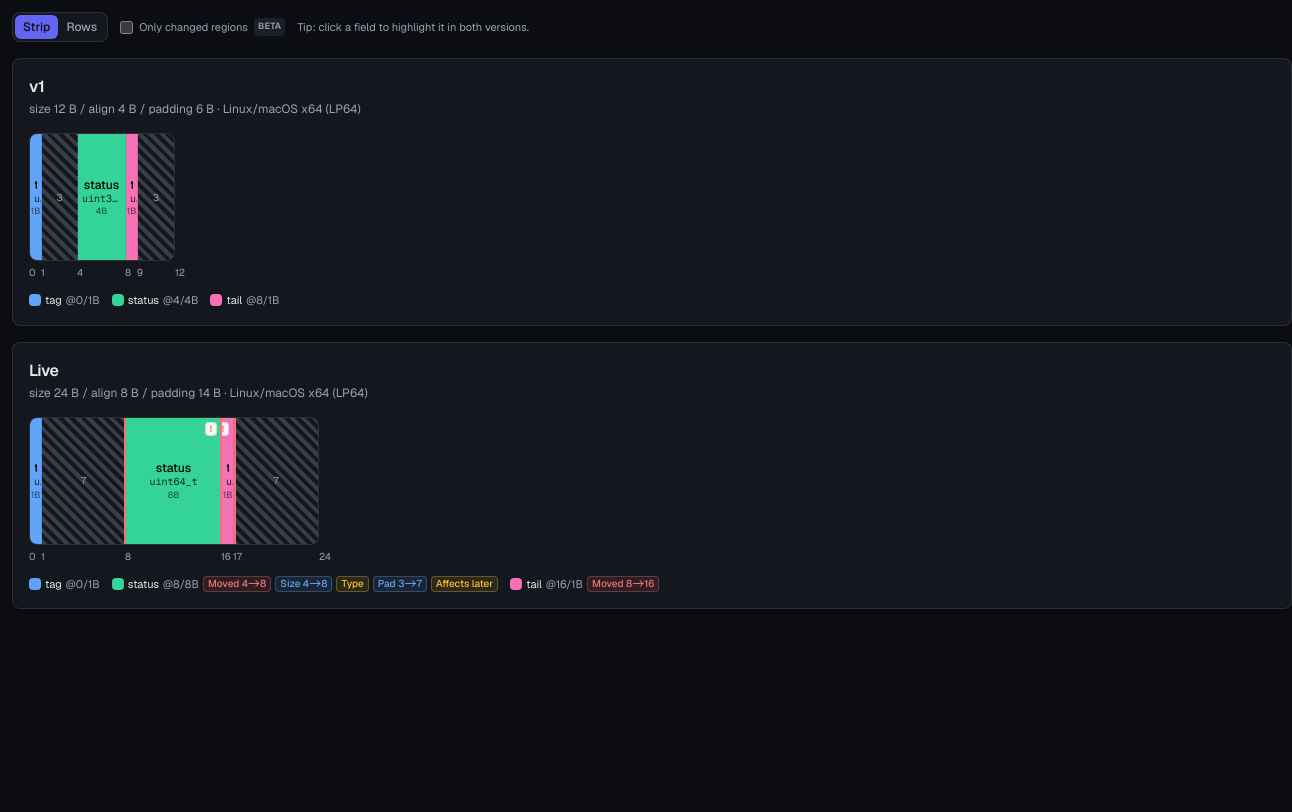
<LayoutVisualizer mode='compare' /> changed regions › shows only rows containing changes while retaining real row offsets and padding
What coordinates should you click on to do the following:
click the checkbox labelled "Only changed regions beta"
I would click on:
 (127, 27)
Its box is [120, 20, 133, 34].
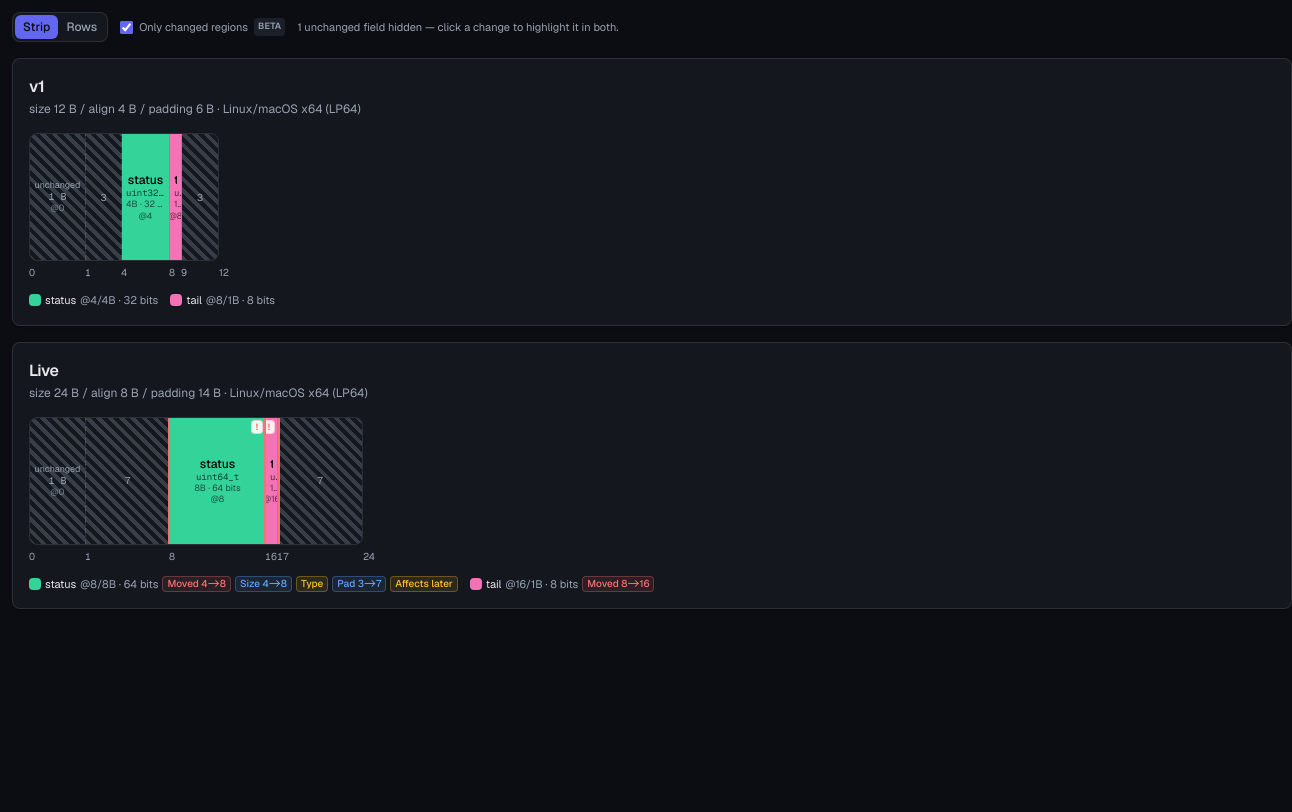
What coordinates should you click on to do the following:
click the button "Rows"
I would click on:
 (82, 27)
Its box is [58, 15, 105, 39].
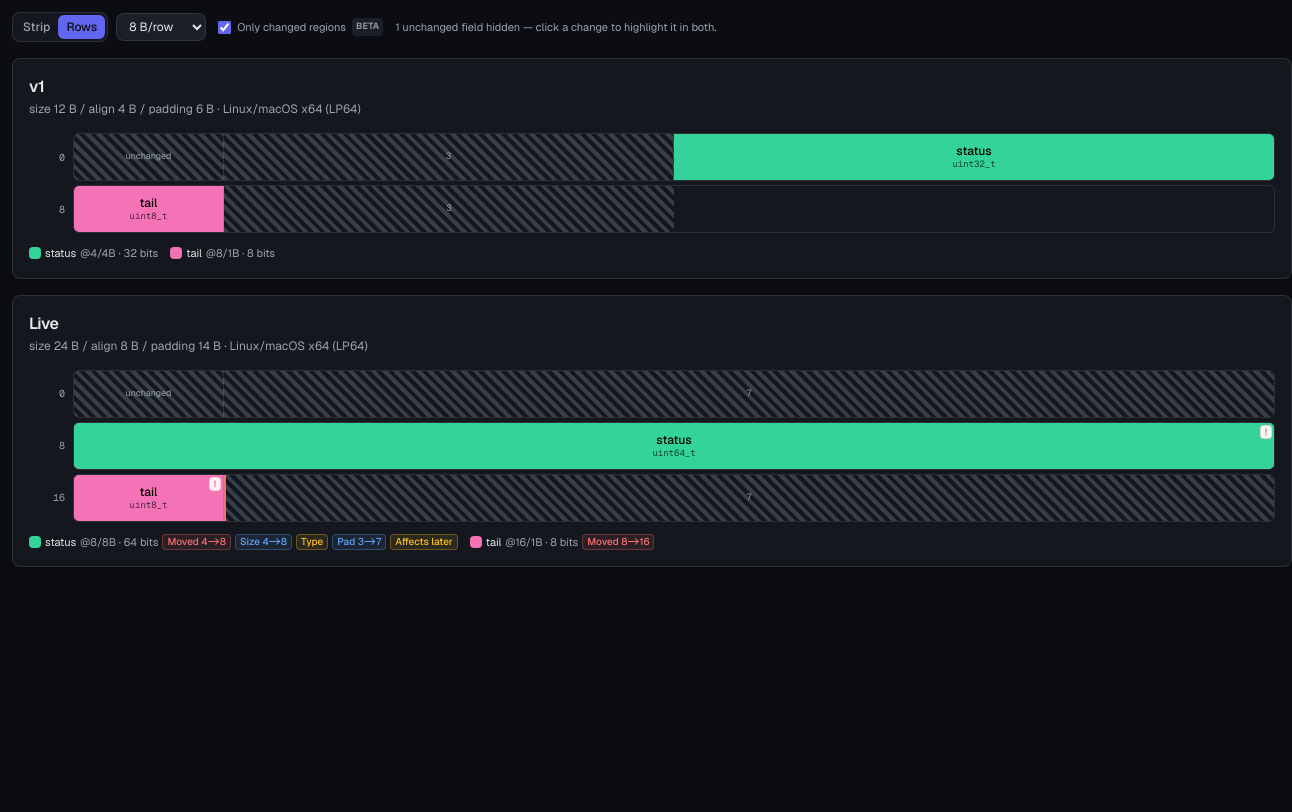
Expected: the text named "Padding:" is shown, [224, 134, 674, 180]
Expected: the dropdown named "Bytes per row" is shown, [116, 13, 206, 41]
Expected: the number of elements named "Changed rows" is 2, [29, 133, 1275, 233]; [29, 370, 1275, 522]
